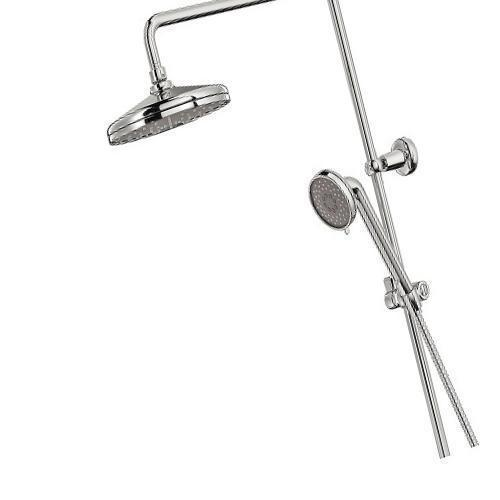Ducha: (130, 0, 487, 461)
